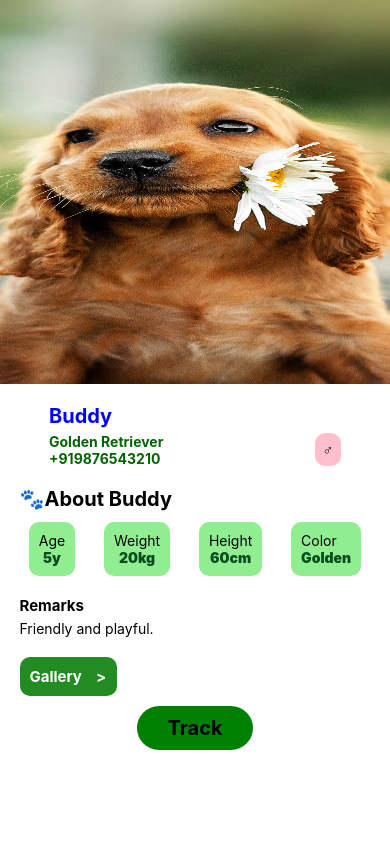
PetScreen Content › should show TrackModal when Track button is pressed
Click the text "Track". click: (195, 728)
box: x1=168 y1=716 x2=223 y2=740
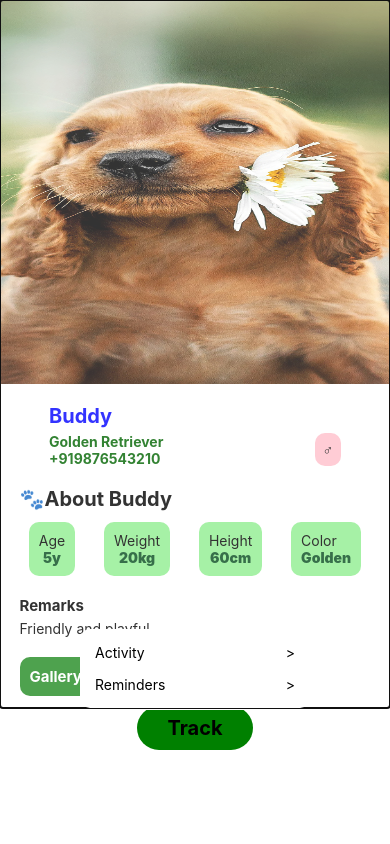
expect the text "Reminders" is shown: met, box x1=95 y1=676 x2=165 y2=692
expect the text "Activity" is shown: met, box x1=95 y1=644 x2=145 y2=660
